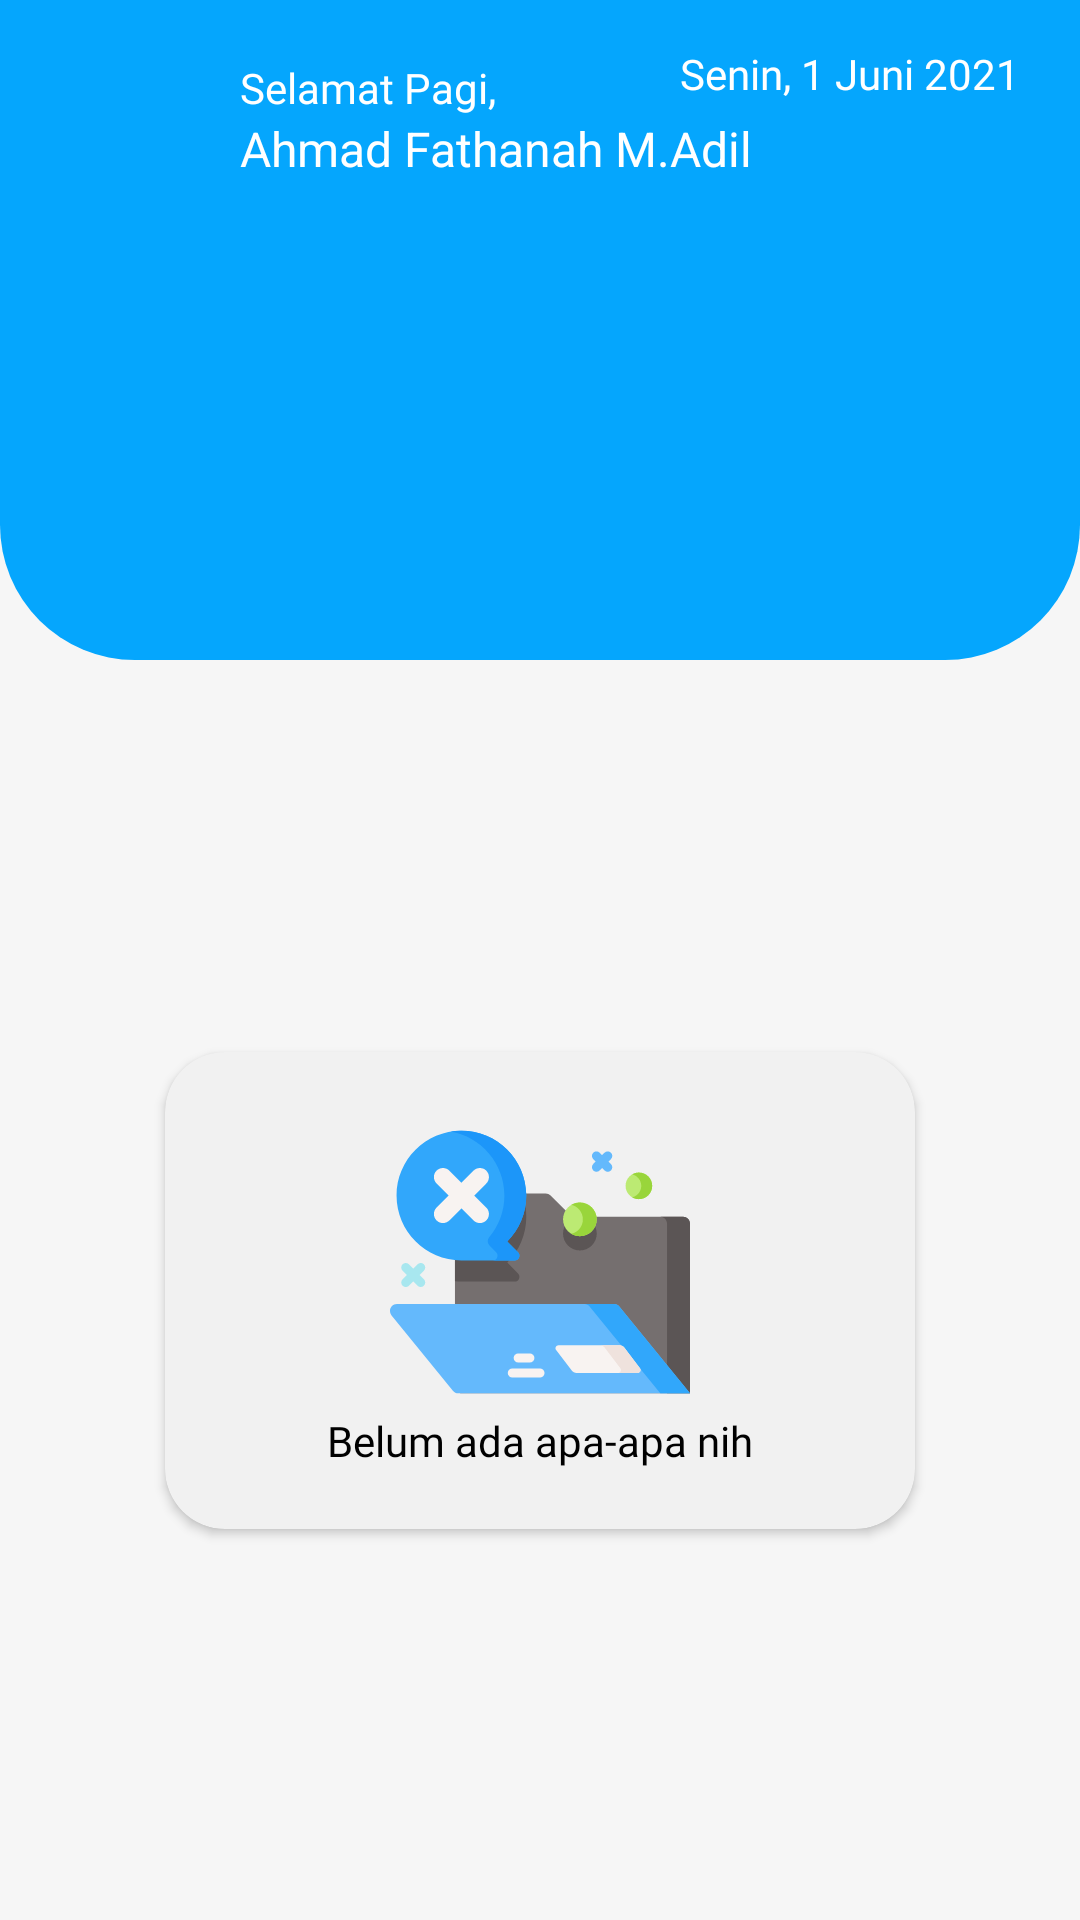

Point at icon controls on the screen. Image size 1080 x 1920, points as (x=x, y=y).
folder: (x=540, y=1262)
